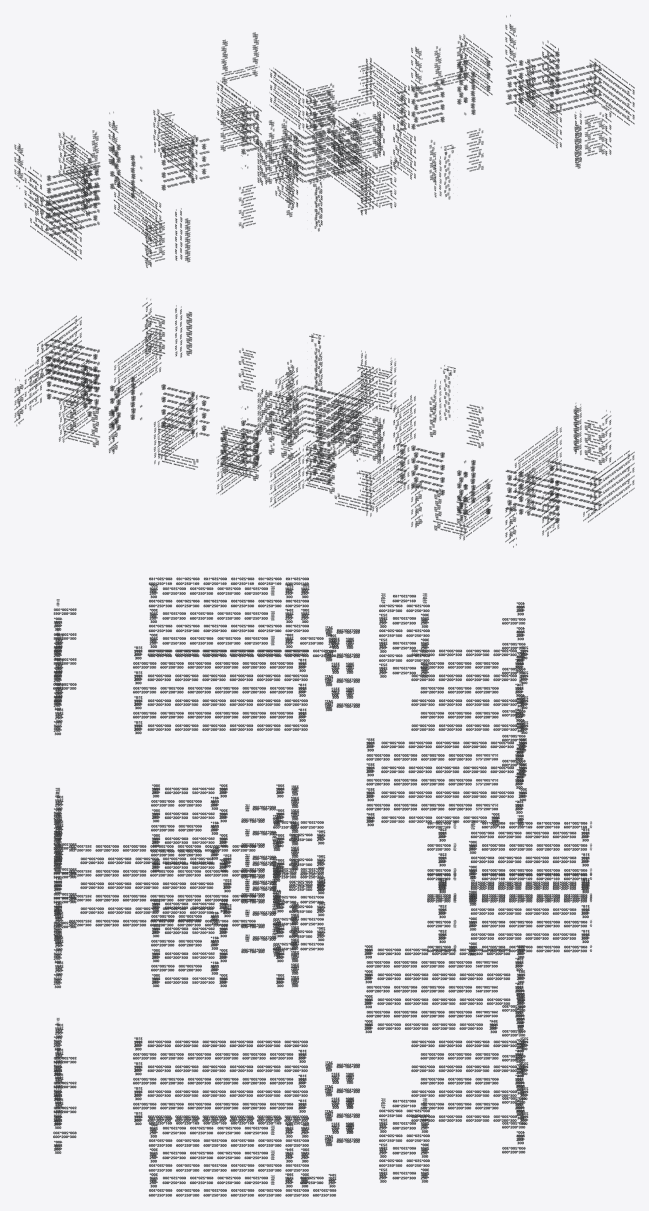
Rendered from labels.glb.
3 renders of one model, top to bottom at view 1: azimuth 30°, elevation 25°; view 2: azimuth 150°, elevation 25°; view 3: azimuth 270°, elevation 25°, orthographic. The views are drawn at different scales.
Visible parts, largest first — view 1: L_F02; view 2: L_F02; view 3: L_F02.
Boxes of the visible parts, x1,y1,x2,y2 form: L_F02: (14,15,634,267); L_F02: (14,298,634,547); L_F02: (53,577,591,1196).
Size of the model in its own units: 28.4 by 3.6 by 12.85.
Materials: 1 (1 with a texture image).
